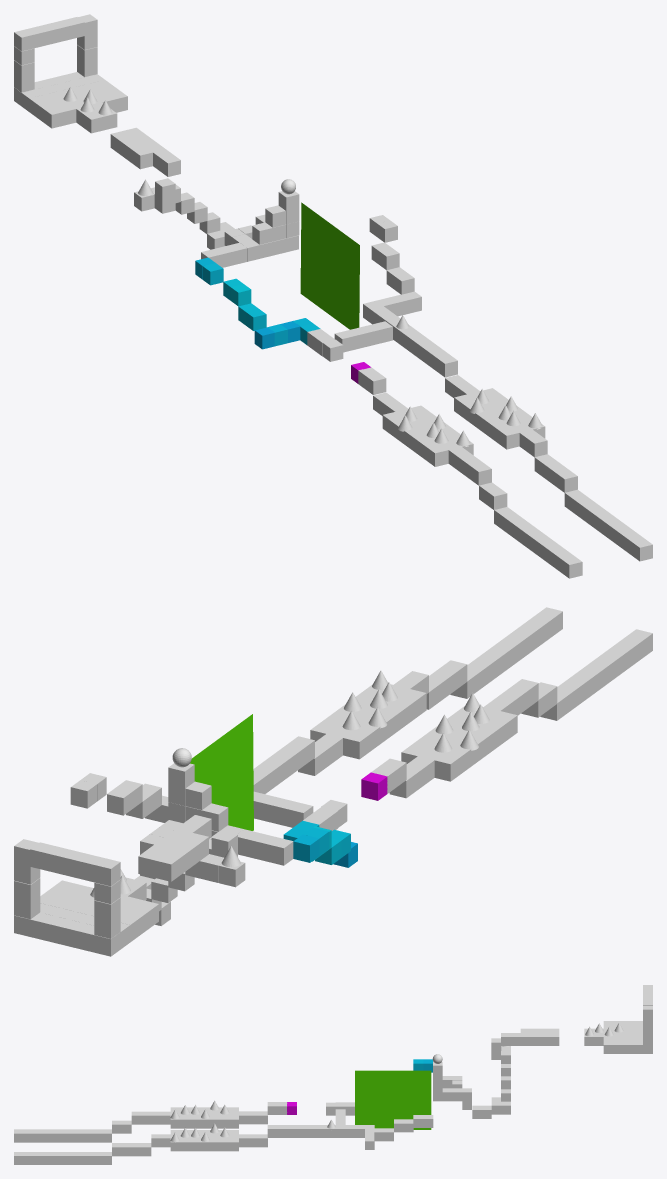
3 renders of one model, top to bottom at view 1: azimuth 30°, elevation 25°; view 2: azimuth 150°, elevation 25°; view 3: azimuth 270°, elevation 25°, orthographic. The views are drawn at different scales.
Visible parts, largest first — view 1: 平面; view 2: 平面, Cube.080, Cube.110, Cube.111, Cube.108, Cube.209, Cube.134, Cube.072, Cube.161, Cube.117, Cube.069, Cube.132 (+3 smaller); view 3: 平面.
Boxes of the visible parts, box(x1,y1,x2,y2) form: 平面: box(300, 202, 359, 329); 平面: box(190, 714, 253, 830); Cube.080: box(361, 772, 387, 800); Cube.110: box(70, 780, 96, 808); Cube.111: box(293, 834, 319, 862); Cube.108: box(107, 787, 133, 815); Cube.209: box(94, 858, 120, 886); Cube.134: box(185, 781, 211, 809); Cube.072: box(434, 753, 460, 781); Cube.161: box(154, 853, 180, 881); Cube.117: box(267, 837, 293, 865); Cube.069: box(343, 731, 368, 759); Cube.132: box(168, 763, 194, 788); 平面: box(355, 1070, 431, 1129).
Bounding box in the file's own units: 3057 × 2970 × 12966.
